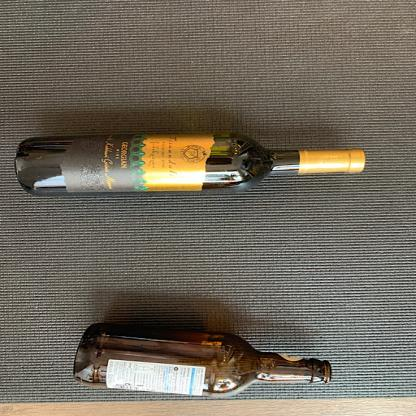trash: (13, 135, 374, 202), (65, 318, 338, 400)
